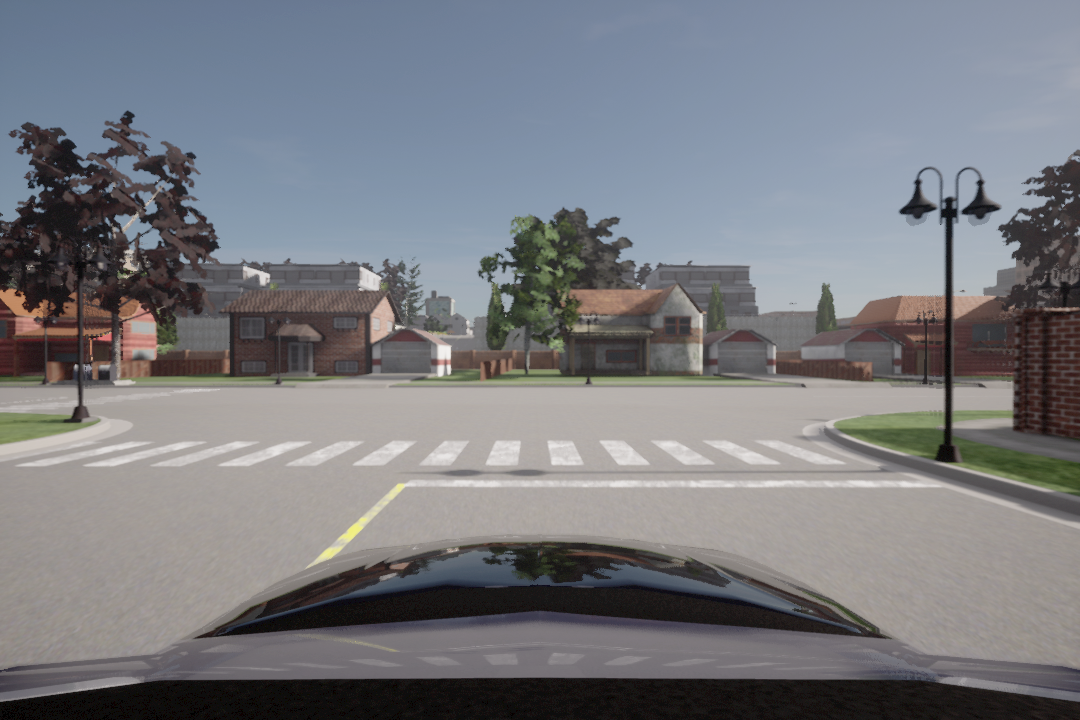walkside: (19, 428, 843, 477)
